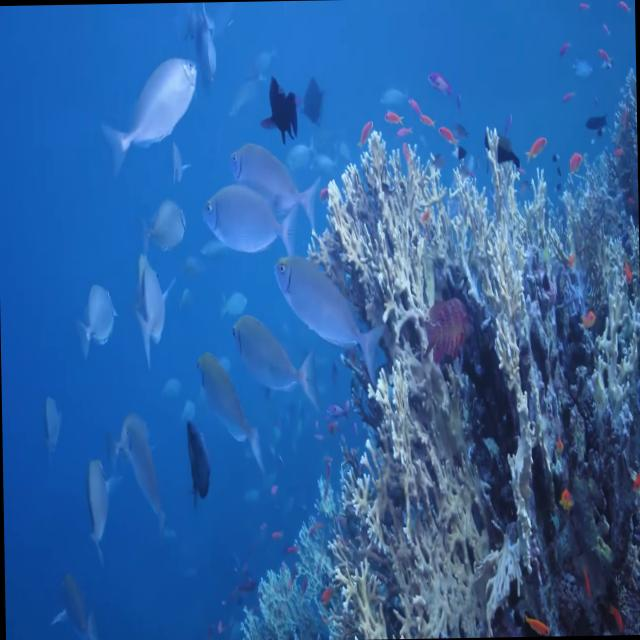fish: (274, 250, 384, 398), (230, 142, 316, 246), (107, 55, 195, 153), (194, 358, 268, 471), (230, 310, 316, 406), (200, 177, 296, 261), (122, 421, 169, 536), (136, 258, 172, 358), (134, 193, 188, 258), (75, 281, 116, 364), (88, 454, 110, 572), (263, 77, 297, 150)
